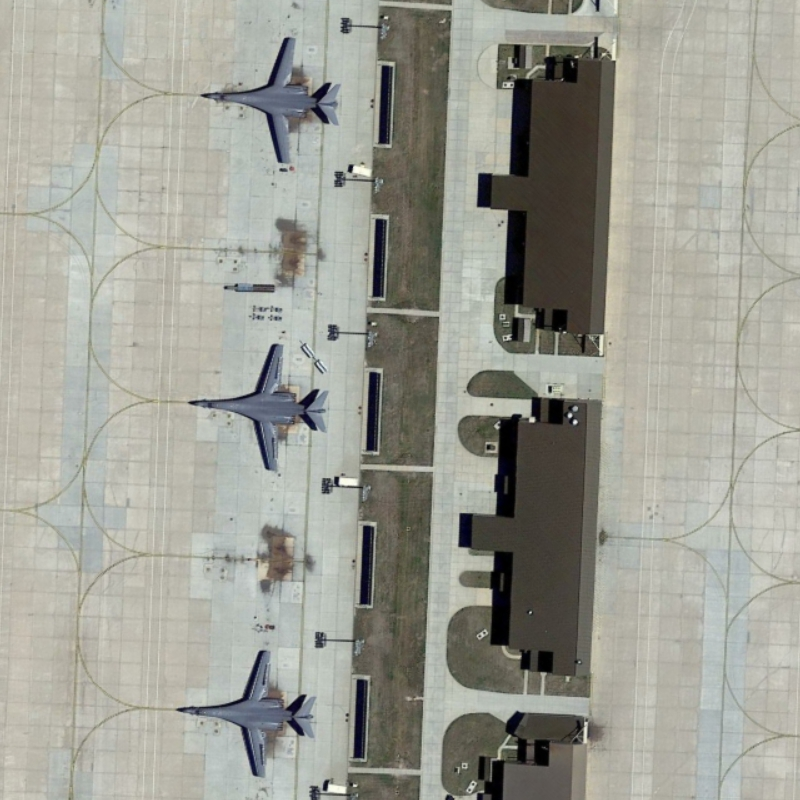A10: (196, 31, 365, 178), (170, 642, 343, 782), (184, 333, 342, 479)
